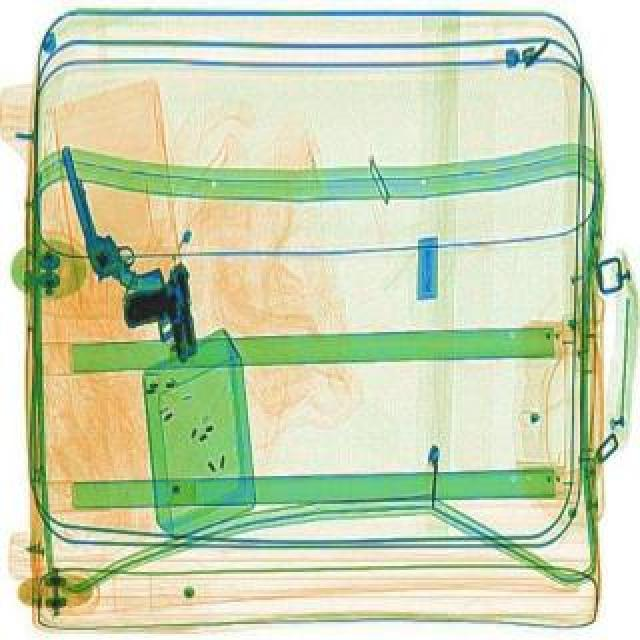gun: (52, 130, 164, 302), (116, 262, 198, 364)
